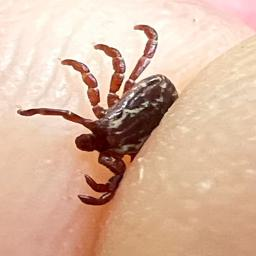Dermacentor variabilis: (17, 23, 177, 206)
